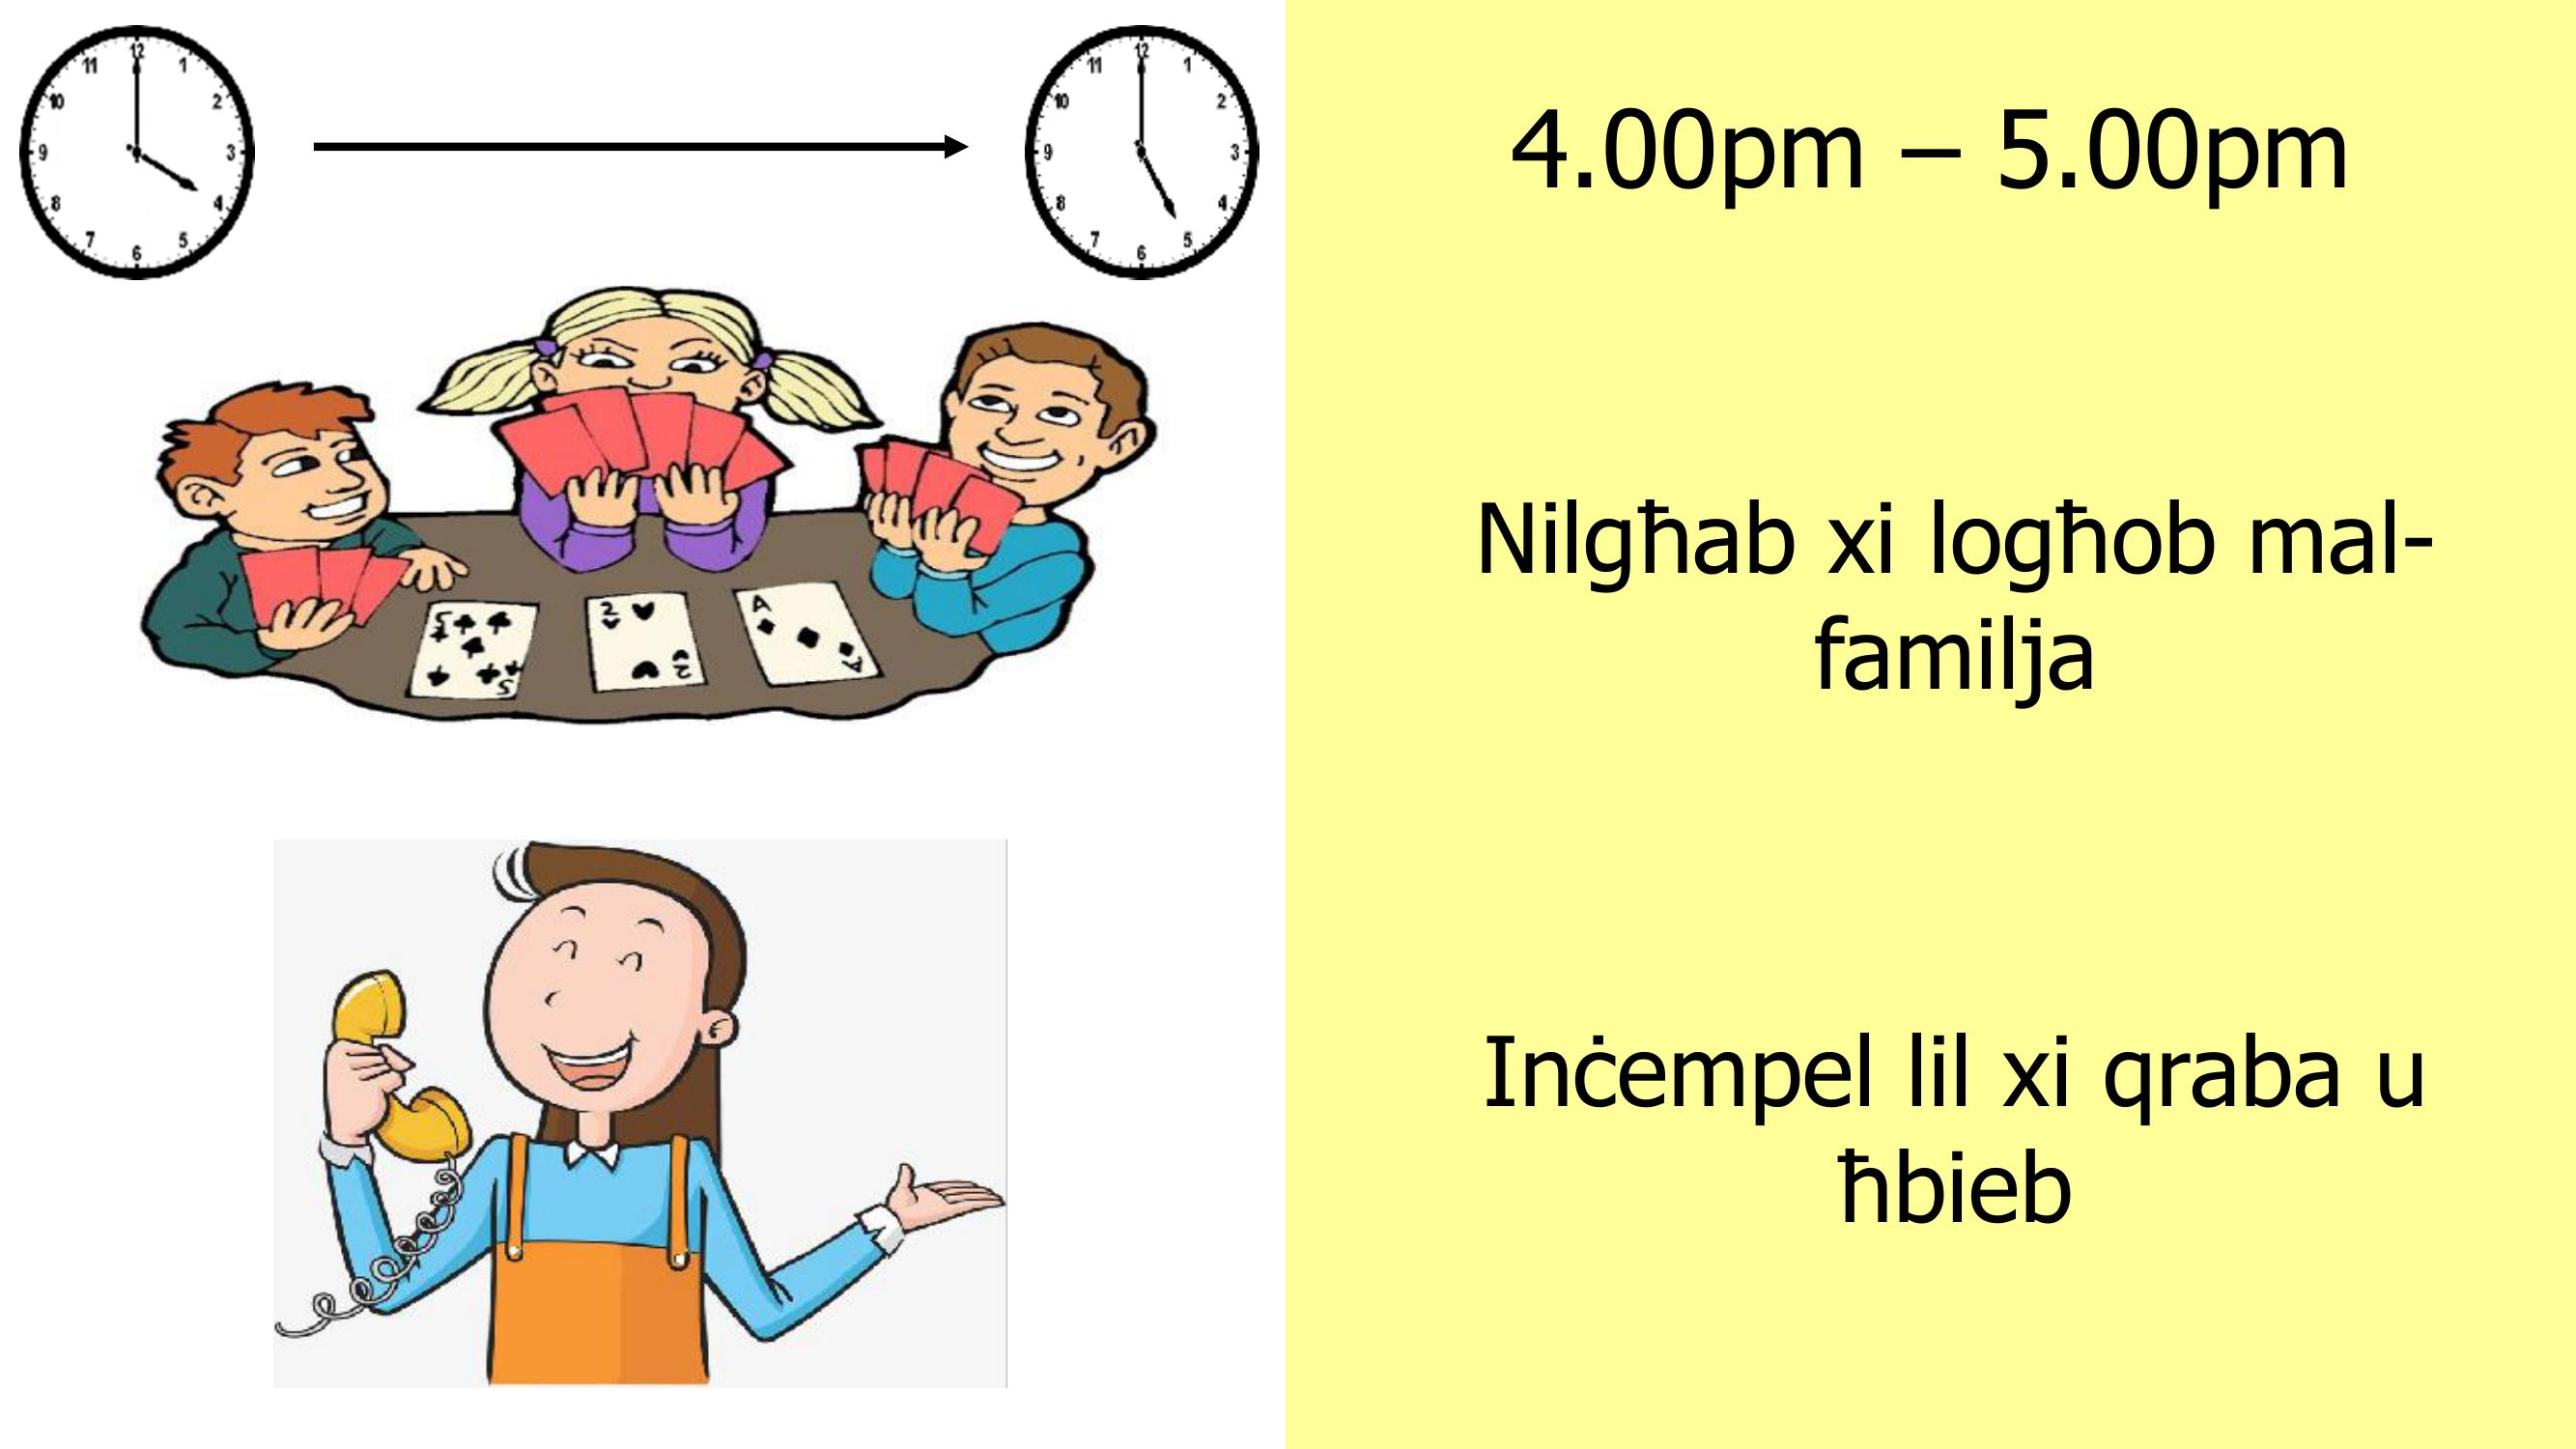text: (1442, 449, 2461, 1256)
